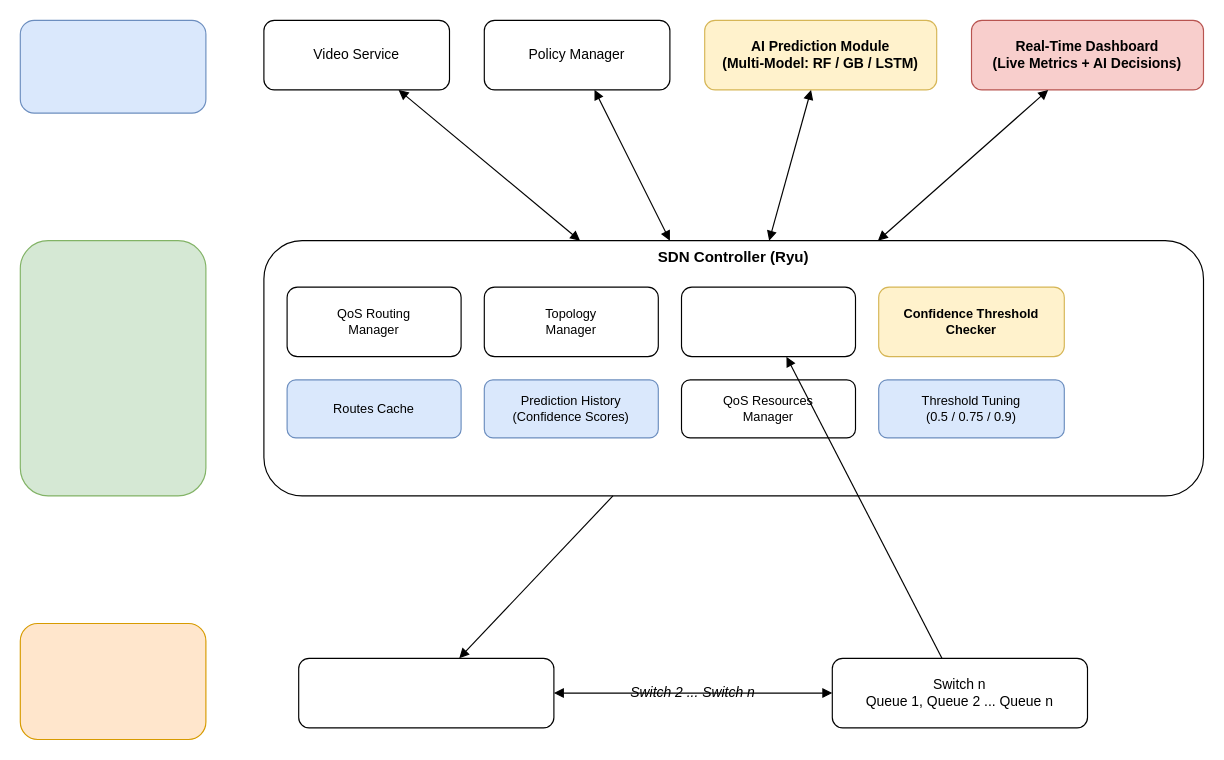
This 1224x760 diagram has some shape labels left out. Here are the shapes that lost their labels. From the top down, the centre of each, then its label:
At (112,66): "Application Plane".
At (767,321): "Statistics Collector".
At (112,368): "Control Plane".
At (112,681): "Data Plane".
At (426,692): "Switch 1 Queue 1, Queue 2 ... Queue n".
